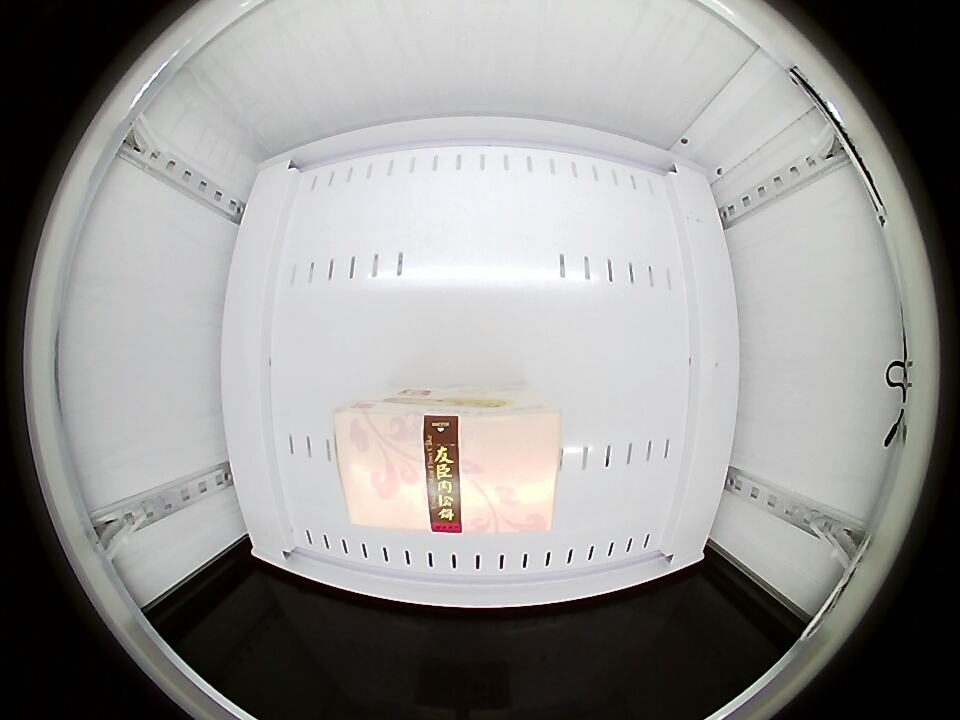rousongbing: (332, 392, 560, 533)
